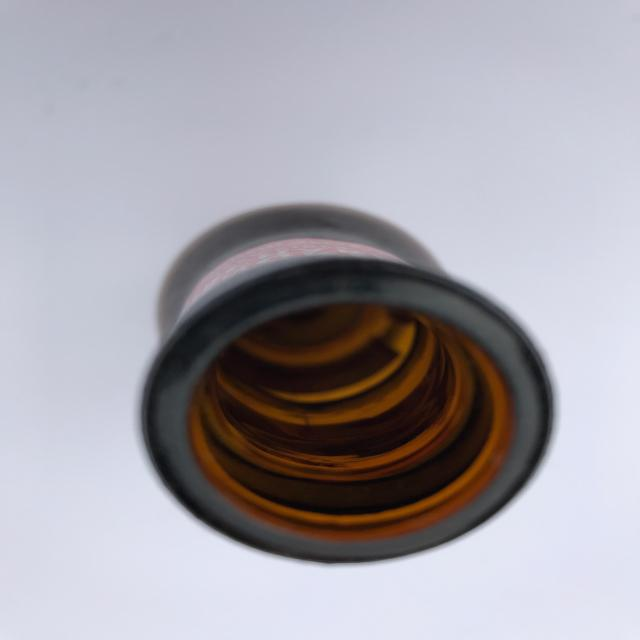glass: (138, 197, 558, 565)
